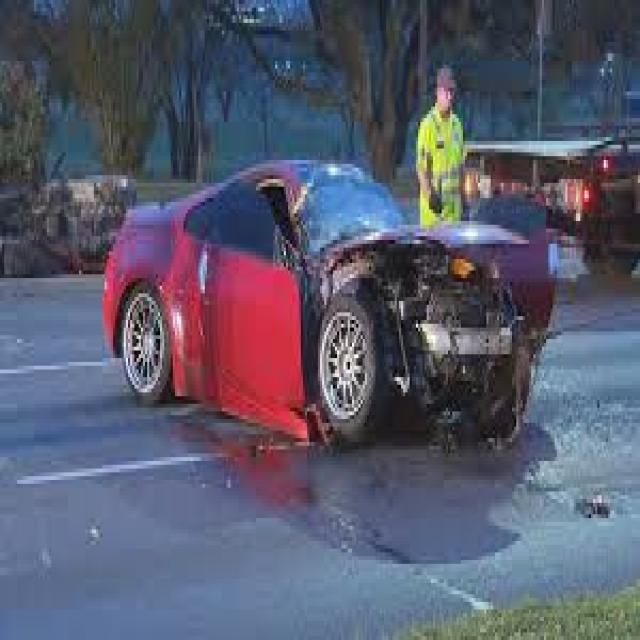Severe Damage: (306, 210, 565, 458)
